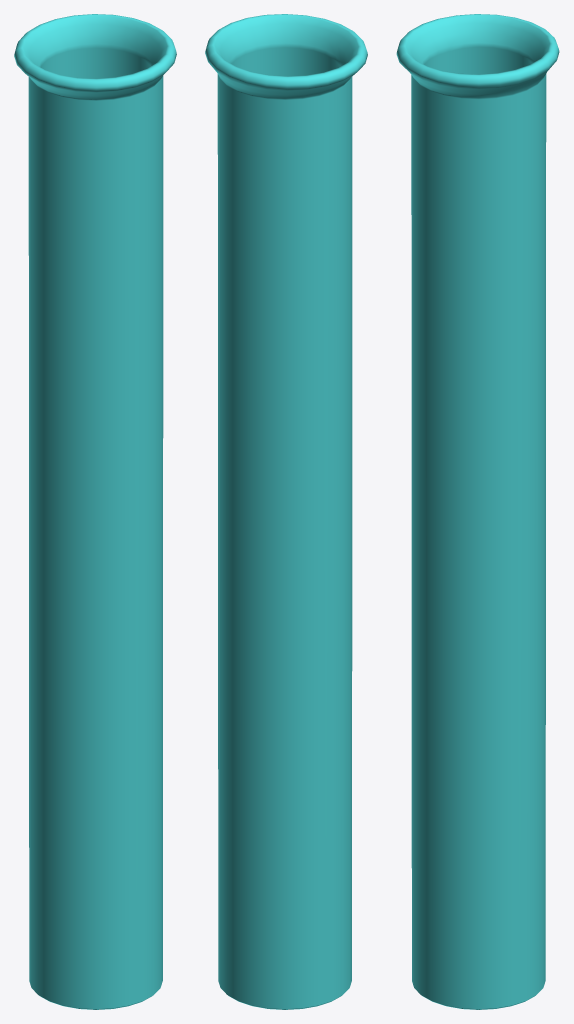
File: Flask.fbx
The picture shows the model from 3 angles, left to right: view 1: azimuth 30°, elevation 25°; view 2: azimuth 150°, elevation 25°; view 3: azimuth 270°, elevation 25°; orthographic projection.
Visible parts, largest first — view 1: transparent_bottles_Detached04.004; view 2: transparent_bottles_Detached04.004; view 3: transparent_bottles_Detached04.004.
Part boxes in pixels (x1,y1,x2,y2): transparent_bottles_Detached04.004: (14,14,176,1009); transparent_bottles_Detached04.004: (205,14,367,1009); transparent_bottles_Detached04.004: (396,14,559,1009).
Size of the model in its own units: 3.09 by 19.64 by 3.09.
